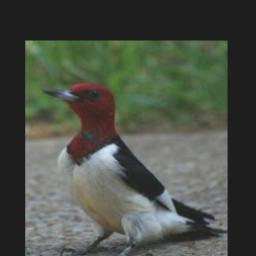Woodpecker: (37, 81, 228, 256)
